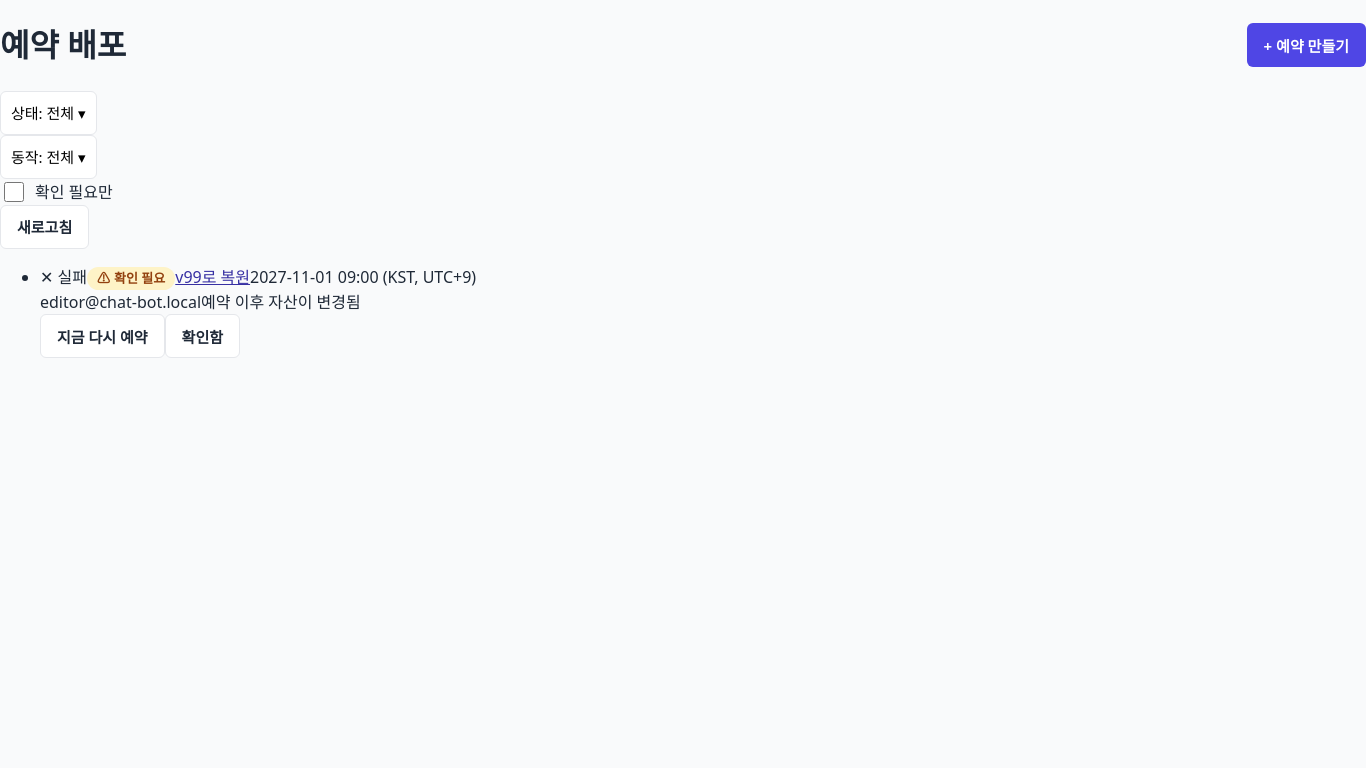
Test: DeployScheduleListPage › H-1: "지금 다시 예약"은 목록의 targetVersionId로 곧바로 진입하고 상세를 추가 조회하지 않는다
Click the button "지금 다시 예약" at (102, 336), box [40, 314, 165, 358]
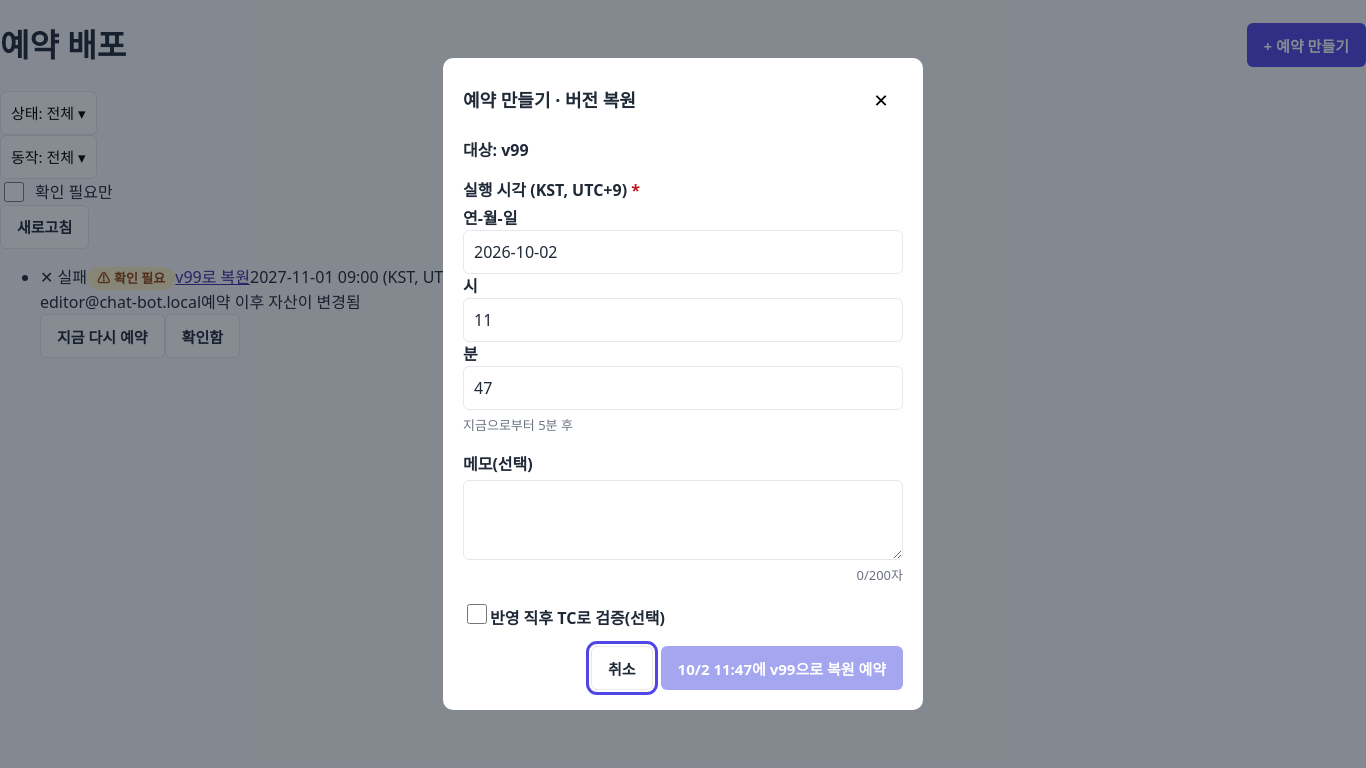
Check: the text "대상: v99" is shown, box [463, 139, 529, 161]
